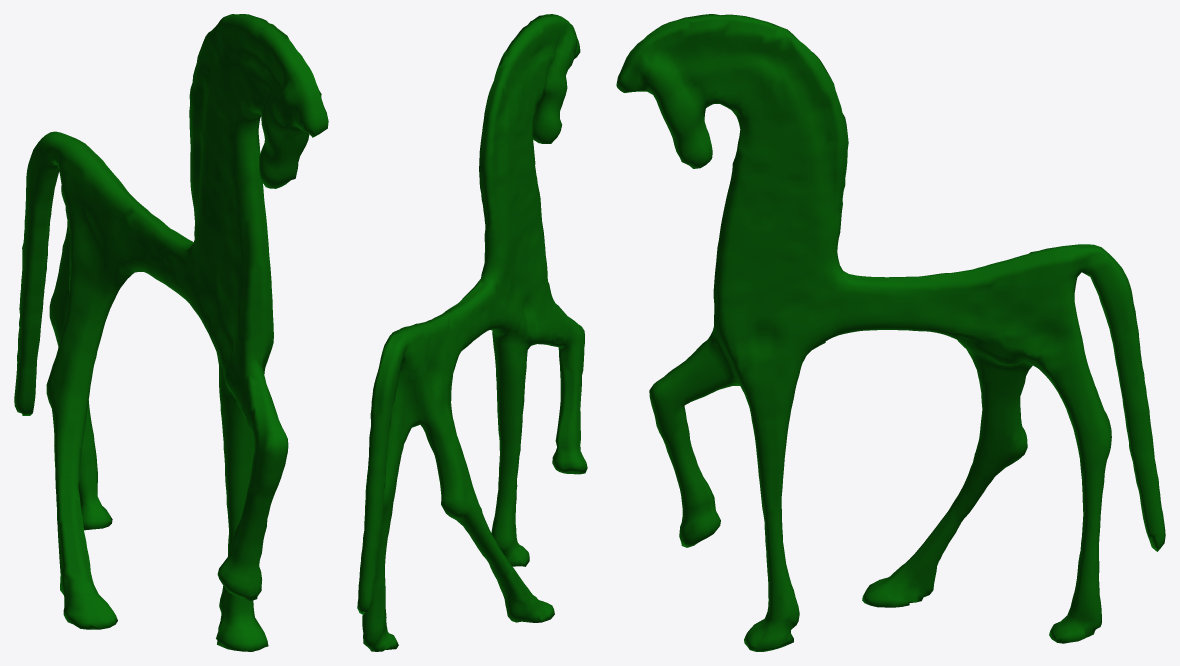
The model's file is Max_out_LP.fbx.
The picture shows the model from 3 angles, left to right: view 1: azimuth 30°, elevation 25°; view 2: azimuth 150°, elevation 25°; view 3: azimuth 270°, elevation 25°; orthographic projection. The views are drawn at different scales.
Visible parts, largest first — view 1: LP; view 2: LP; view 3: LP.
Boxes of the visible parts, left/top/right/bottom form: LP: left=14, top=14, right=328, bottom=651; LP: left=357, top=14, right=587, bottom=651; LP: left=616, top=14, right=1165, bottom=651.
Bounding box in the file's own units: 0.2704 × 1.24 × 0.986.
